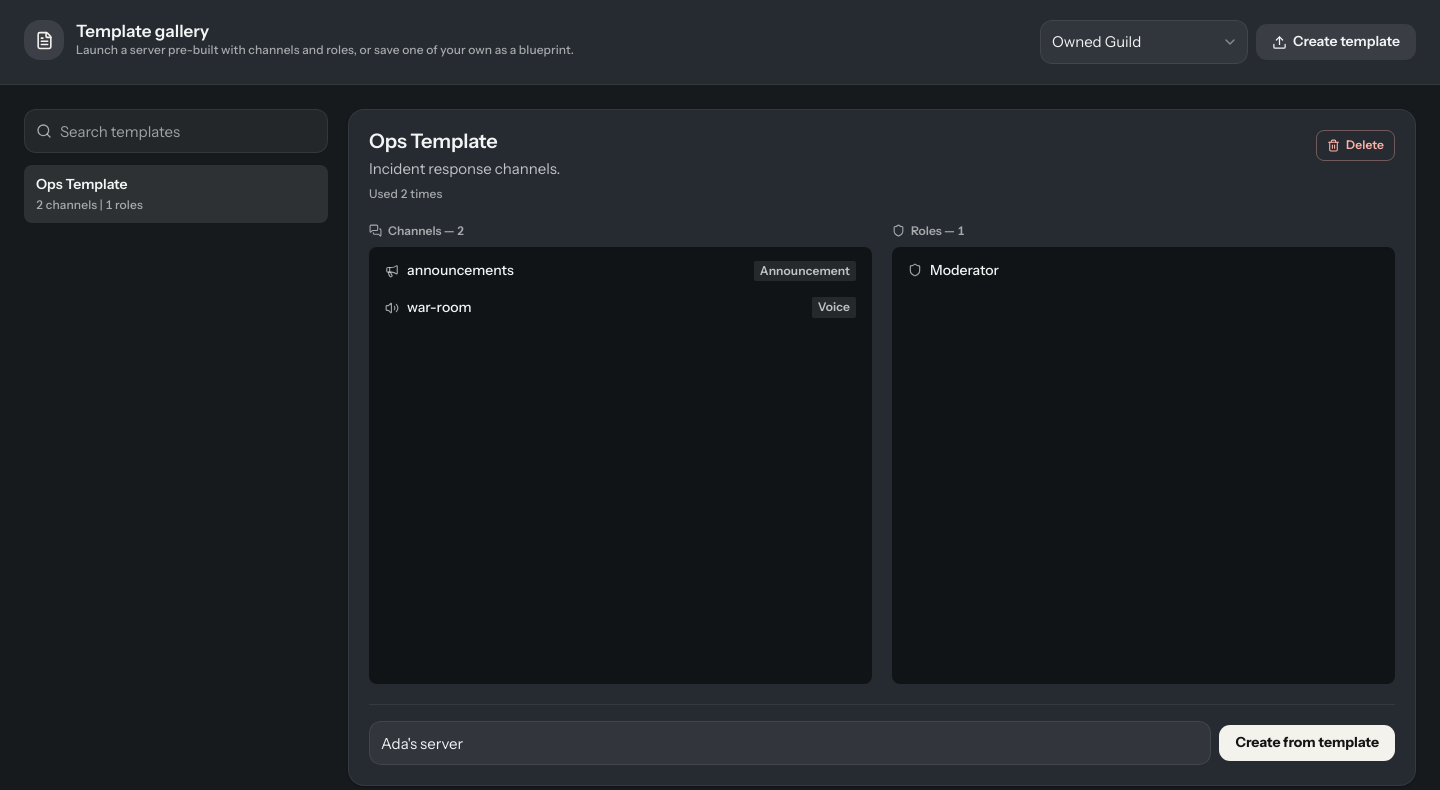
Test: TemplateGalleryPage › shows concrete action errors for apply, create, and delete failures
This screenshot has width=1440, height=790.
Check: the button with aria-label "View template Ops Template" is shown, box [24,165,328,223]
Replace the text in the field named "New server name" with "Launch HQ" at x=790, y=743, box [369,721,1211,765]
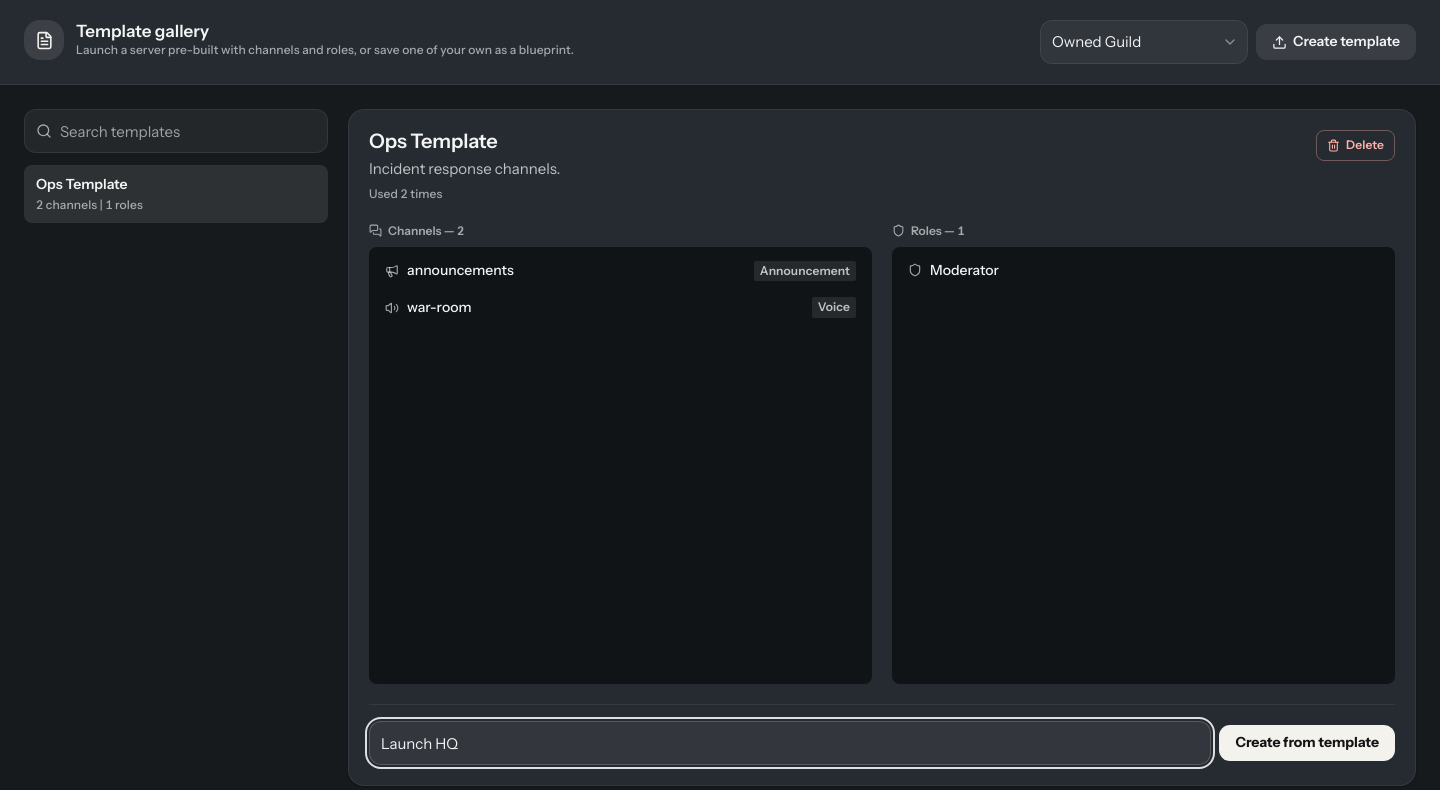
Click the button "Create from template" at x=1307, y=743, box [1219,725,1395,761]
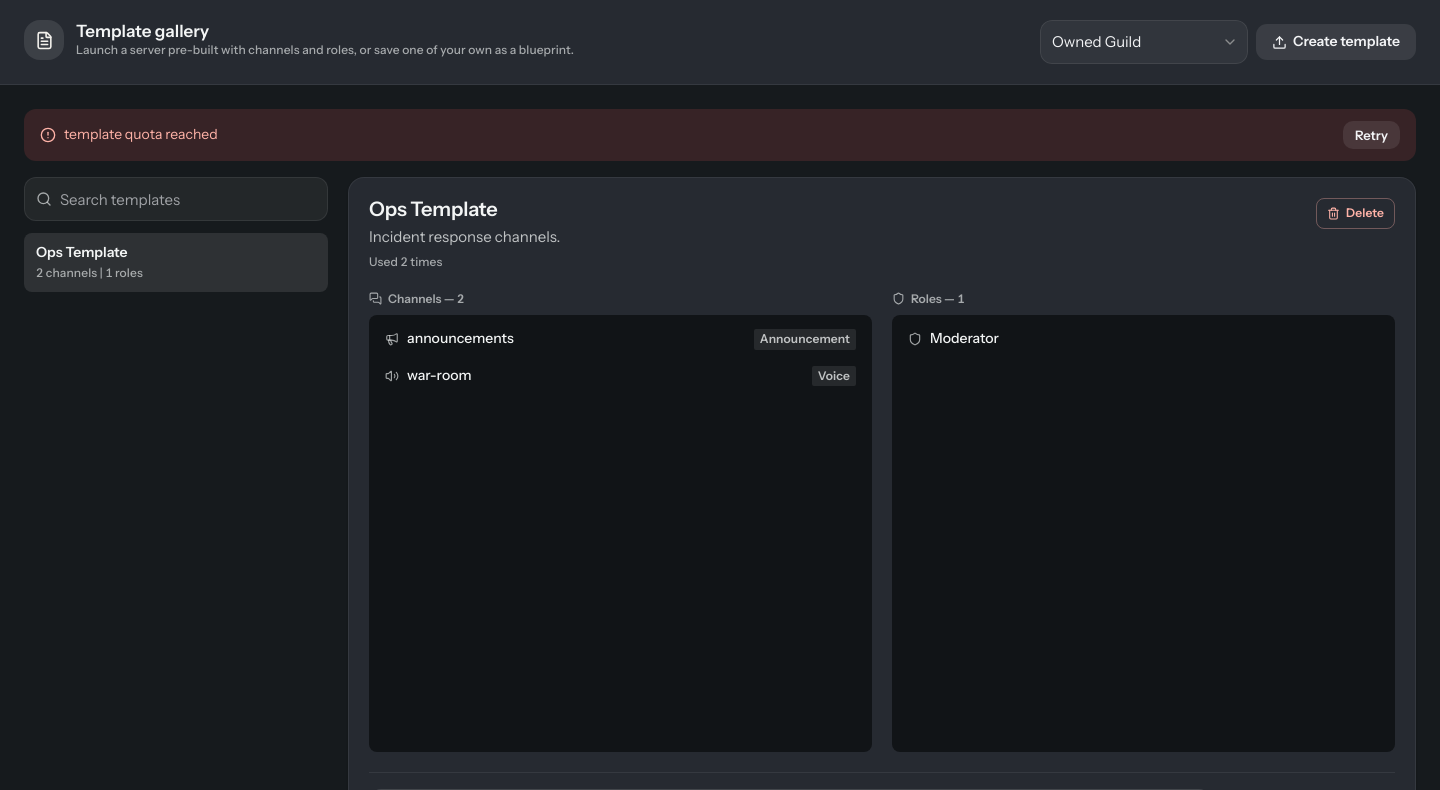
Check: the message shows "template quota reached", box [64,125,218,143]
Click the button "Create template" at x=1336, y=42, box [1256,24,1416,60]
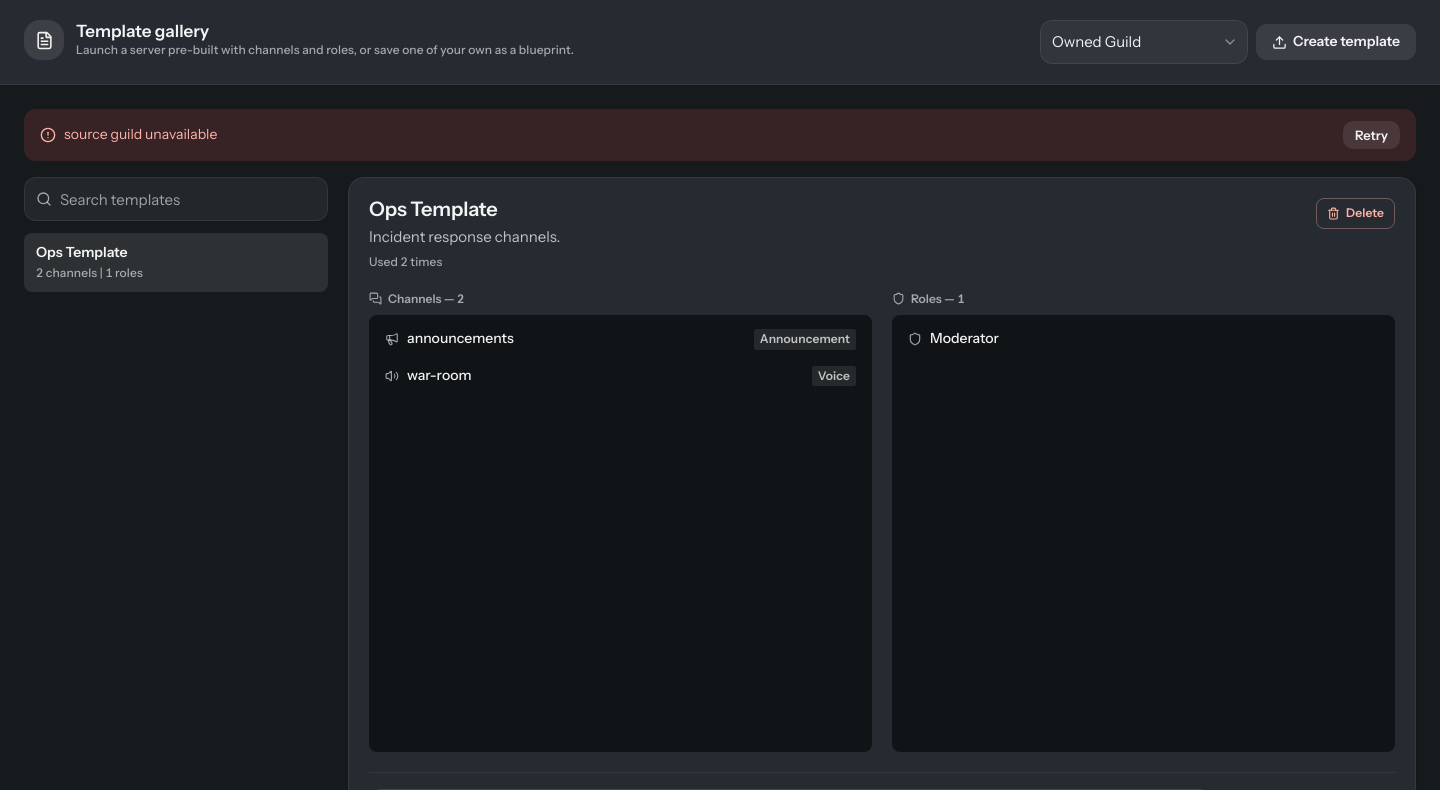
Check: the message shows "source guild unavailable", box [64,125,217,143]
Click the button with aria-label "Delete template Ops Template" at x=1356, y=214, box [1316,198,1395,229]
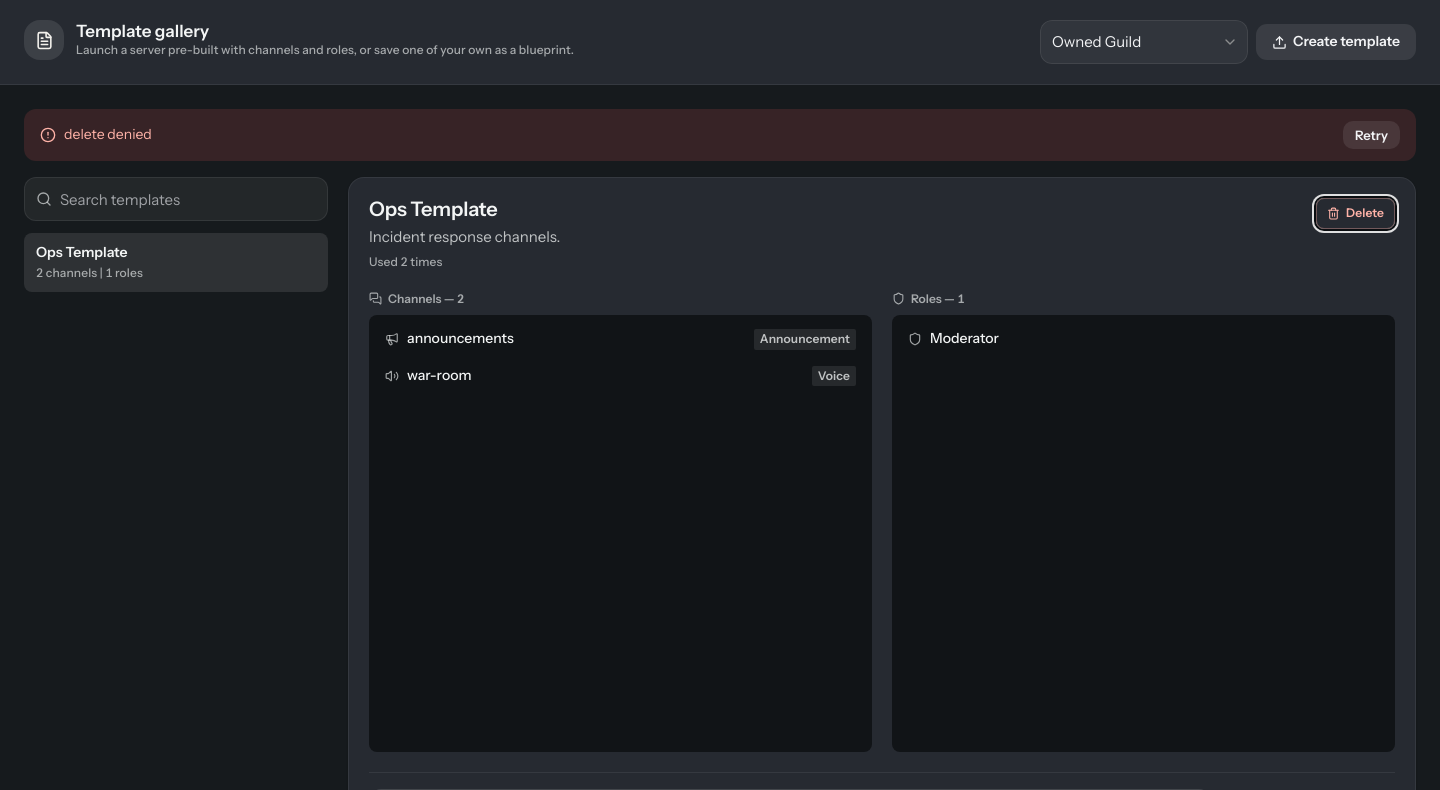
Check: the message shows "delete denied", box [64,125,152,143]
